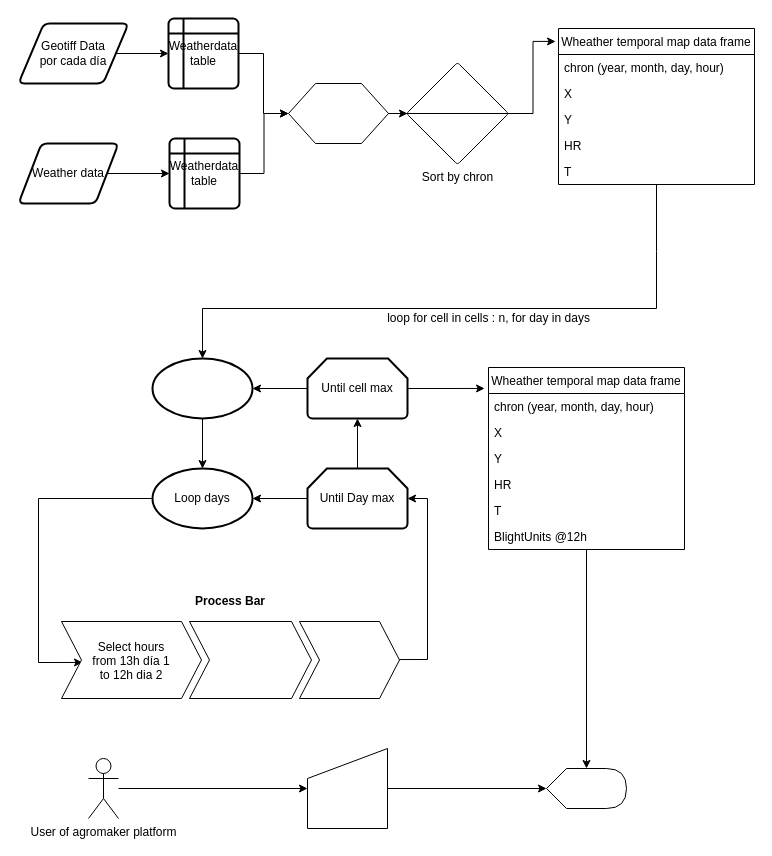
Some shapes in this 772 by 856 pixel diagram are drawn without their labels. The shapes that lost their labels are listed below. From the top down, each one's centre as x and y in pixels, then its label:
pixel 338 113: Crear chron columna library chron
pixel 202 388: Loop cells
pixel 250 659: Calculate Tº and t in consecutive periods above 90%RH
pixel 349 659: Calculate BlightR
pixel 347 788: Input day
pixel 586 788: Display map
